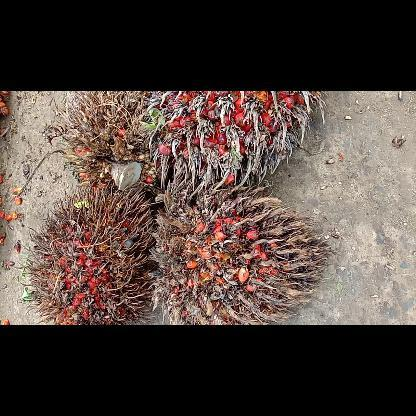Terlalu masak: (149, 186, 334, 324), (147, 91, 329, 201), (21, 180, 159, 324), (56, 90, 168, 198)
